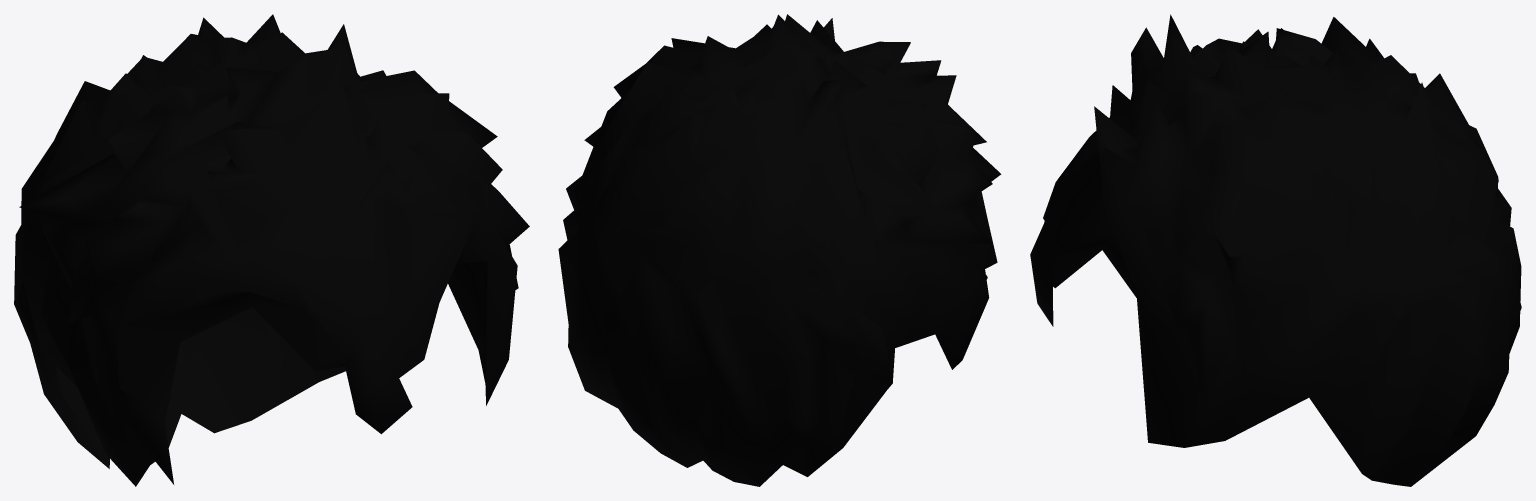
Rendered from AF_M_hair_18.fbx.
3 renders of one model, left to right at view 1: azimuth 30°, elevation 25°; view 2: azimuth 150°, elevation 25°; view 3: azimuth 270°, elevation 25°, orthographic. The views are drawn at different scales.
Parts seen in each view (by area): view 1: AF_M_hair_18; view 2: AF_M_hair_18; view 3: AF_M_hair_18.
Boxes of the visible parts, x1,y1,x2,y2 form: AF_M_hair_18: [14, 14, 529, 486]; AF_M_hair_18: [558, 14, 1001, 486]; AF_M_hair_18: [1030, 14, 1521, 486].
Size of the model in its own units: 764 by 767 by 782.
